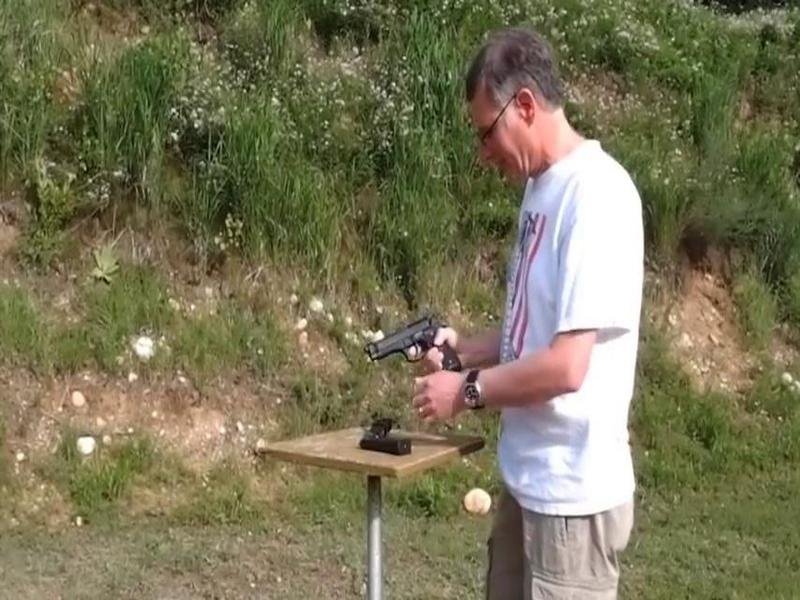Revolver: (369, 307, 487, 394)
